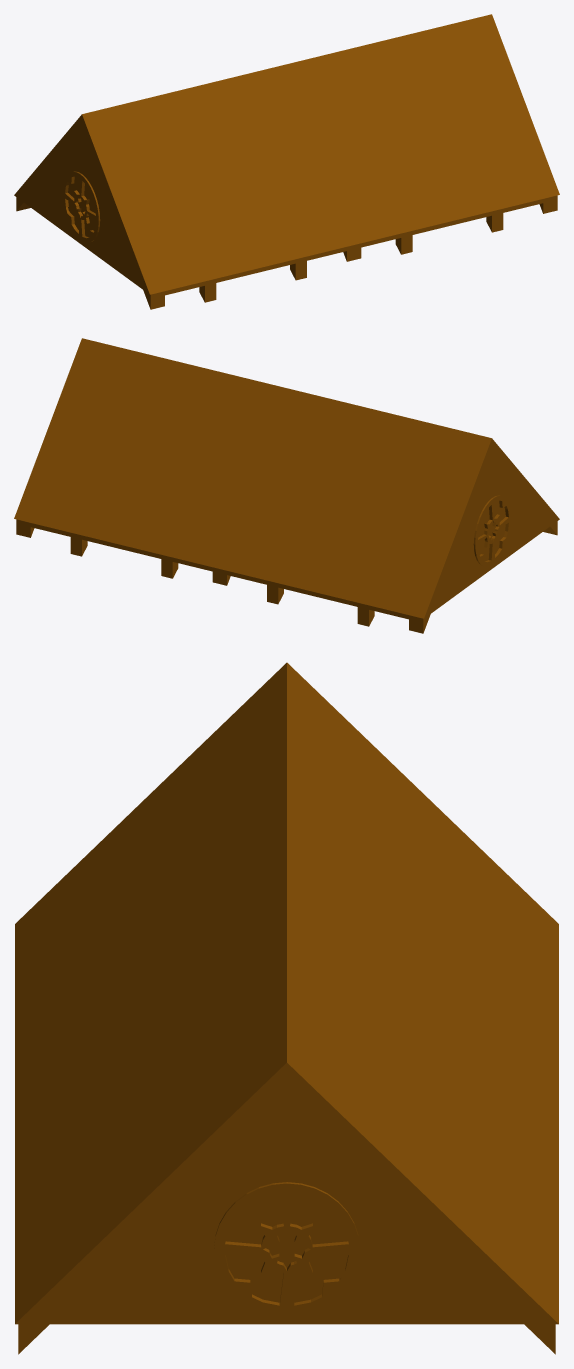
The model's file is RoofGH.fbx.
The picture shows the model from 3 angles, top to bottom: view 1: azimuth 30°, elevation 25°; view 2: azimuth 150°, elevation 25°; view 3: azimuth 270°, elevation 25°; orthographic projection. The views are drawn at different scales.
Parts seen in each view (by area): view 1: Dach; view 2: Dach; view 3: Dach.
Boxes of the visible parts, x1,y1,x2,y2 form: Dach: [14, 14, 559, 309]; Dach: [14, 338, 559, 633]; Dach: [15, 662, 558, 1354].
Bounding box in the file's own units: 2840 × 1005 × 1620.
